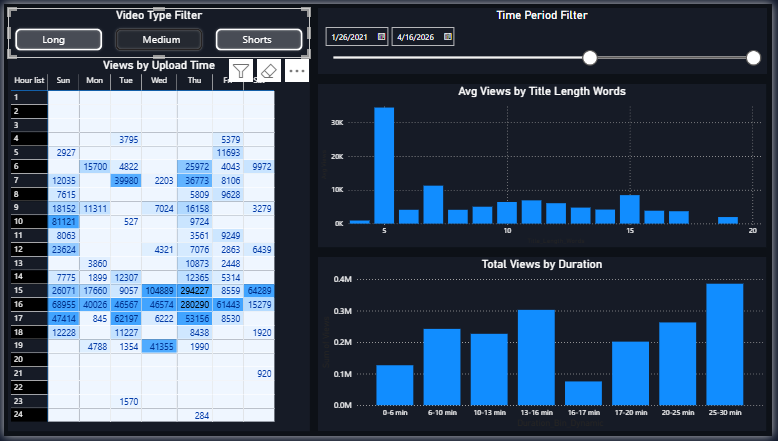

The dashboard page shown, as its layout file describes it:
{"tool":"powerbi","page":{"name":"Views Analysis","canvas":[1280,720],"ordinal":1},"visuals":[{"type":"pivotTable","title":"Views by Upload Time","fields":{"Rows":["HourTable.Complete hour list"],"Columns":["Calendar.Day of Week"],"Values":["All Measures.Total Views"]},"box":[6.7,90,503.3,621.7],"z":0},{"type":"columnChart","title":"Total Views by Duration","fields":{"Y":["Sum(Siddharth_Rajsekar_channel_data_final_20260417.Views)"],"Category":["Siddharth_Rajsekar_channel_data_final_20260417.Duration_Bin_Dynamic"]},"box":[523.3,421.7,746.7,290],"z":1000},{"type":"columnChart","title":"Avg Views by Title Length Words","fields":{"Category":["Siddharth_Rajsekar_channel_data_final_20260417.Title_Length_Words"],"Y":["All Measures.Avg Views"]},"box":[523.3,133.3,746.7,271.7],"z":2000},{"type":"slicer","title":"Time Period Filter","fields":{"Values":["Calendar.Date_Only"]},"box":[523.3,6.7,746.7,110],"z":3000},{"type":"advancedSlicerVisual","title":"Video Type Filter","fields":{"Values":["Siddharth_Rajsekar_channel_data_final_20260417.Video_Type"]},"box":[6.7,6.7,503.3,83.3],"z":4000}]}

Visuals, with their boxes in screenshot pixels (x1, y1, x2, y2), scaled from the page's 1280x720 canvas onto the 778x441 screenshot:
"Views by Upload Time" pivotTable: [left=4, top=55, right=310, bottom=436]
"Total Views by Duration" columnChart: [left=318, top=258, right=772, bottom=436]
"Avg Views by Title Length Words" columnChart: [left=318, top=82, right=772, bottom=248]
"Time Period Filter" slicer: [left=318, top=4, right=772, bottom=71]
"Video Type Filter" advancedSlicerVisual: [left=4, top=4, right=310, bottom=55]
